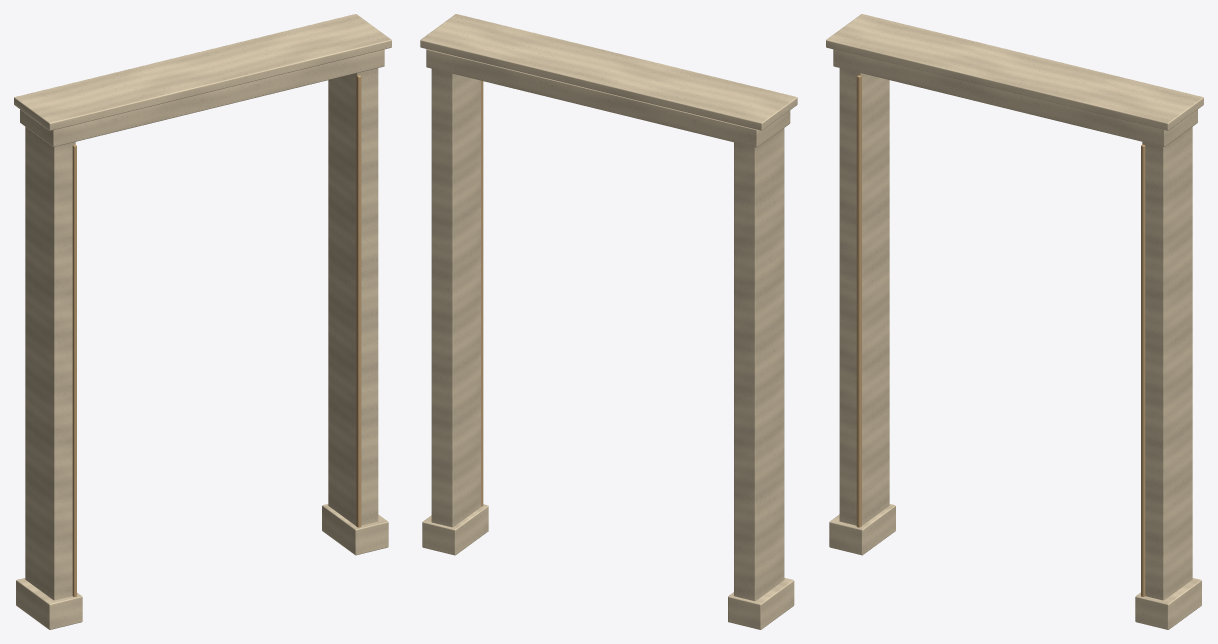
Rendered from threshold-surround.glb.
3 renders of one model, left to right at view 1: azimuth 30°, elevation 25°; view 2: azimuth 150°, elevation 25°; view 3: azimuth 330°, elevation 25°, orthographic.
Parts seen in each view (by area): view 1: Joinery.008, Joinery.011, Joinery.015, Joinery.014, Joinery.012, Joinery.009, Joinery.010, Joinery.013; view 2: Joinery.008, Joinery.011, Joinery.015, Joinery.014, Joinery.010, Joinery.013, Joinery.012; view 3: Joinery.011, Joinery.008, Joinery.015, Joinery.014, Joinery.009, Joinery.012, Joinery.013, Joinery.010.
Part boxes in pixels (x1=…): Joinery.008: x1=25, y1=127, x2=75, y2=600; Joinery.011: x1=328, y1=68, x2=378, y2=525; Joinery.015: x1=14, y1=14, x2=391, y2=130; Joinery.014: x1=20, y1=49, x2=384, y2=146; Joinery.012: x1=356, y1=75, x2=361, y2=527; Joinery.009: x1=72, y1=144, x2=76, y2=596; Joinery.010: x1=16, y1=578, x2=82, y2=629; Joinery.013: x1=322, y1=504, x2=388, y2=555; Joinery.008: x1=734, y1=128, x2=784, y2=601; Joinery.011: x1=431, y1=68, x2=480, y2=527; Joinery.015: x1=420, y1=14, x2=797, y2=130; Joinery.014: x1=426, y1=49, x2=790, y2=147; Joinery.010: x1=728, y1=578, x2=794, y2=629; Joinery.013: x1=422, y1=504, x2=488, y2=555; Joinery.012: x1=481, y1=80, x2=483, y2=506; Joinery.011: x1=1142, y1=127, x2=1192, y2=600; Joinery.008: x1=839, y1=68, x2=889, y2=525; Joinery.015: x1=826, y1=14, x2=1203, y2=130; Joinery.014: x1=833, y1=49, x2=1197, y2=146; Joinery.009: x1=856, y1=75, x2=861, y2=527; Joinery.012: x1=1141, y1=144, x2=1145, y2=596; Joinery.013: x1=1135, y1=578, x2=1201, y2=629; Joinery.010: x1=829, y1=504, x2=895, y2=555.
Size of the model in its own units: 4.39 by 6.23 by 0.8.
Materials: 2 (1 with a texture image).
